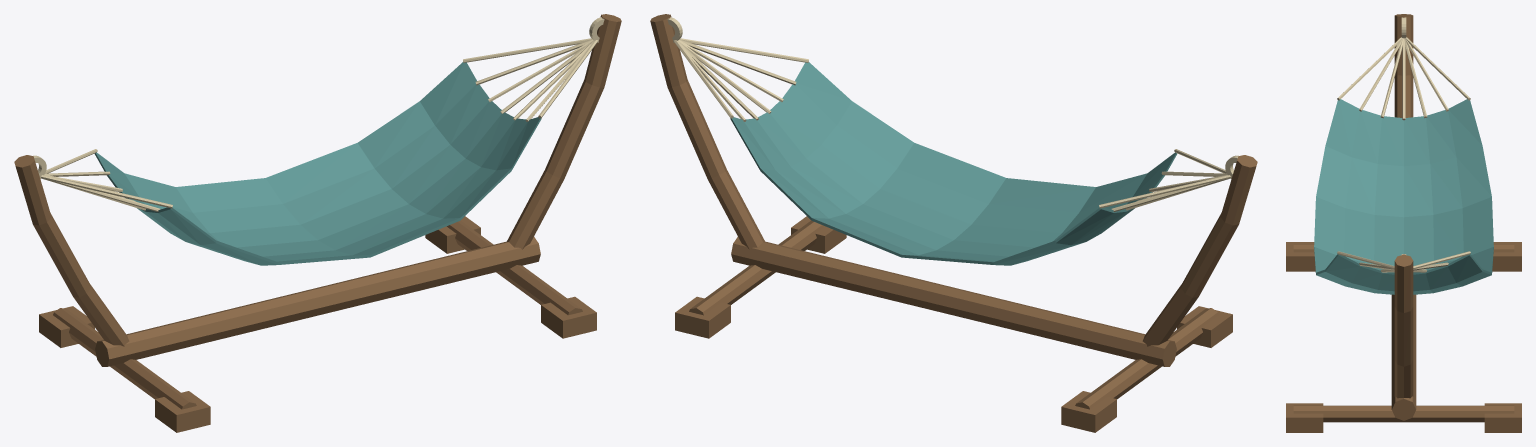
3 views of the same model, side by side, from view 1: azimuth 30°, elevation 25°; view 2: azimuth 150°, elevation 25°; view 3: azimuth 270°, elevation 25° (orthographic). The views are drawn at different scales.
Visible parts, largest first — view 1: WholeDeeplySaggedClothBed, WholeLowLongitudinalStandSpine, WholeOutwardSweptEndPostRight, WholeOutwardSweptEndPostLeft, WholeTransverseGroundFootLeft, WholeTransverseGroundFootRight, WholeFlatGroundShoeLeft0, WholeFlatGroundShoeRight0, WholeFlatGroundShoeLeft1, WholeFlatGroundShoeRight1, WholeFanSuspensionRopeLeft0, WholeFanSuspensionRopeRight6; view 2: WholeDeeplySaggedClothBed, WholeLowLongitudinalStandSpine, WholeOutwardSweptEndPostRight, WholeOutwardSweptEndPostLeft, WholeTransverseGroundFootLeft, WholeTransverseGroundFootRight, WholeFlatGroundShoeLeft1, WholeFlatGroundShoeRight1, WholeFlatGroundShoeLeft0, WholeFlatGroundShoeRight0, WholeFanSuspensionRopeLeft6, WholeFanSuspensionRopeRight0; view 3: WholeDeeplySaggedClothBed, WholeTransverseGroundFootRight, WholeOutwardSweptEndPostRight, WholeOutwardSweptEndPostLeft, WholeLowLongitudinalStandSpine, WholeFlatGroundShoeRight0, WholeFlatGroundShoeRight1, WholeFlatGroundShoeLeft0, WholeFlatGroundShoeLeft1, WholeTransverseGroundFootLeft, WholeFanSuspensionRopeLeft3, WholeFanSuspensionRopeLeft4 (+5 smaller).
Part boxes in pixels (x1,y1,x2,y2): WholeDeeplySaggedClothBed: (94, 62, 541, 265); WholeLowLongitudinalStandSpine: (95, 237, 540, 366); WholeOutwardSweptEndPostRight: (506, 14, 621, 249); WholeOutwardSweptEndPostLeft: (14, 155, 129, 346); WholeTransverseGroundFootLeft: (53, 308, 196, 409); WholeTransverseGroundFootRight: (447, 220, 582, 315); WholeFlatGroundShoeLeft0: (155, 391, 210, 432); WholeFlatGroundShoeRight0: (541, 296, 596, 338); WholeFlatGroundShoeLeft1: (39, 306, 94, 347); WholeFlatGroundShoeRight1: (425, 216, 480, 253); WholeFanSuspensionRopeLeft0: (40, 175, 172, 208); WholeFanSuspensionRopeRight6: (463, 38, 592, 62); WholeDeeplySaggedClothBed: (730, 62, 1177, 265); WholeLowLongitudinalStandSpine: (731, 237, 1176, 366); WholeOutwardSweptEndPostRight: (650, 14, 765, 249); WholeOutwardSweptEndPostLeft: (1142, 155, 1257, 346); WholeTransverseGroundFootLeft: (1075, 308, 1218, 409); WholeTransverseGroundFootRight: (689, 220, 824, 315); WholeFlatGroundShoeLeft1: (1061, 391, 1116, 432); WholeFlatGroundShoeRight1: (675, 296, 730, 338); WholeFlatGroundShoeLeft0: (1177, 306, 1232, 347); WholeFlatGroundShoeRight0: (791, 216, 846, 253); WholeFanSuspensionRopeLeft6: (1099, 175, 1231, 208); WholeFanSuspensionRopeRight0: (679, 38, 808, 62); WholeDeeplySaggedClothBed: (1314, 99, 1493, 294); WholeTransverseGroundFootRight: (1293, 405, 1514, 422); WholeOutwardSweptEndPostRight: (1394, 254, 1413, 398); WholeOutwardSweptEndPostLeft: (1394, 14, 1413, 117); WholeLowLongitudinalStandSpine: (1391, 294, 1416, 420); WholeFlatGroundShoeRight0: (1286, 403, 1323, 432); WholeFlatGroundShoeRight1: (1484, 403, 1521, 432); WholeFlatGroundShoeLeft0: (1286, 242, 1315, 271); WholeFlatGroundShoeLeft1: (1492, 242, 1521, 271); WholeTransverseGroundFootLeft: (1293, 244, 1514, 252); WholeFanSuspensionRopeLeft3: (1402, 38, 1405, 120); WholeFanSuspensionRopeLeft4: (1404, 38, 1427, 118).
Size of the model in its own units: 3.2 by 1.23 by 1.26.
